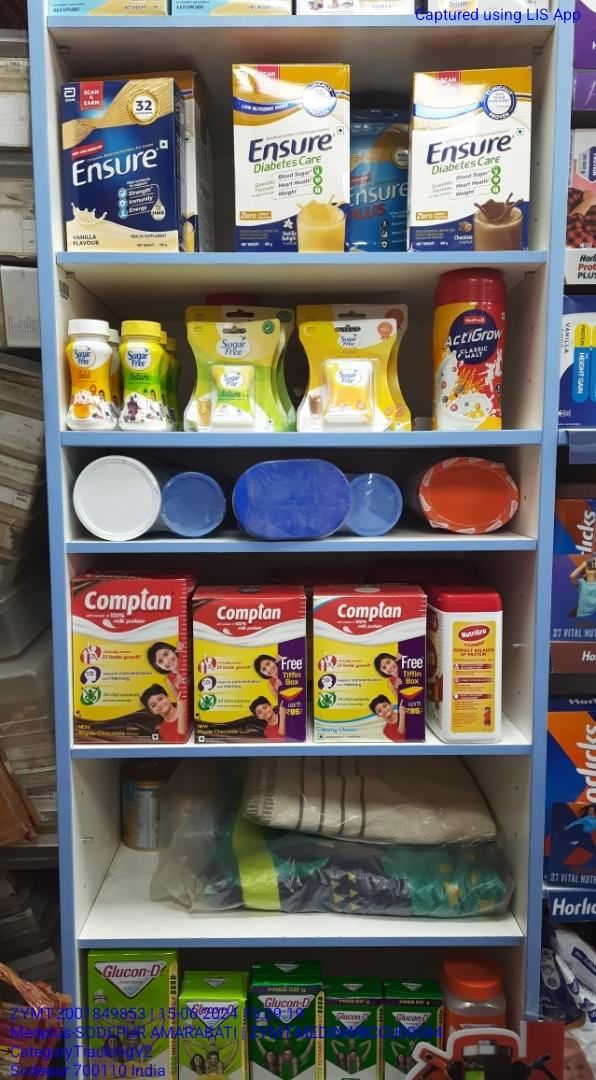COMPLAN_CHOCOLATE_500_GMS_PACK: (71, 578, 186, 742), (192, 598, 306, 743)
COMPLAN_CREAMY_CLASSIC_500_G_PACK: (313, 595, 425, 745)
ENSURE_VANILLA_400_G_PACK: (62, 78, 176, 253)
